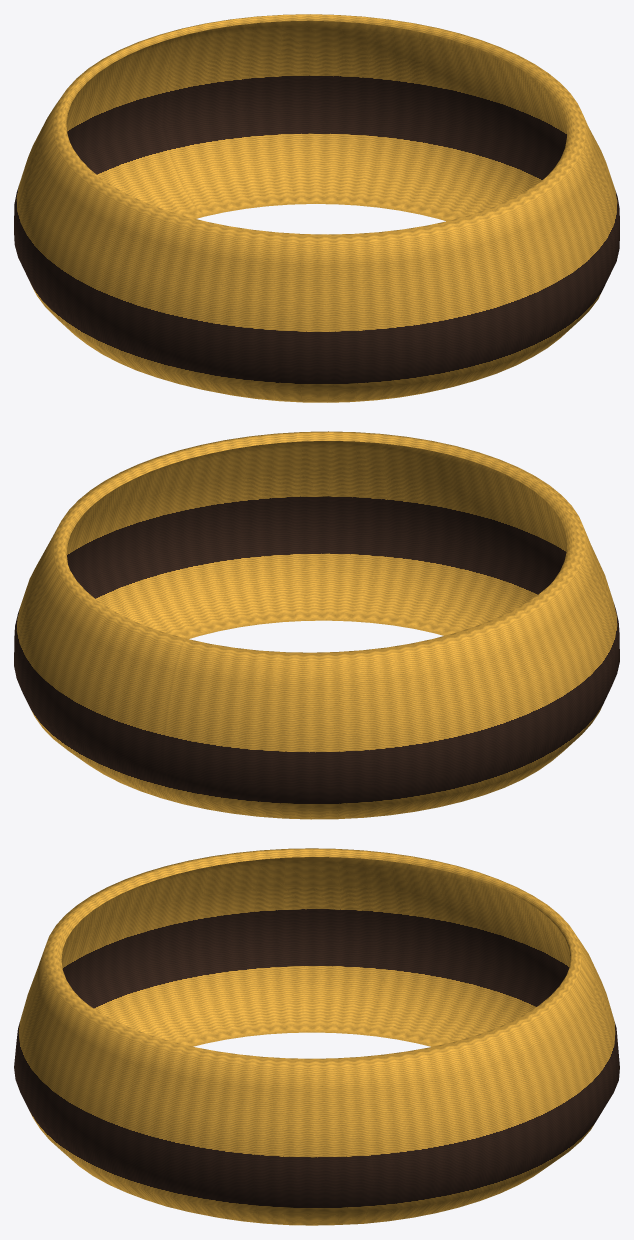
File: abdomen-crouch.fbx
3 renders of one model, top to bottom at view 1: azimuth 30°, elevation 25°; view 2: azimuth 150°, elevation 25°; view 3: azimuth 270°, elevation 25°, orthographic.
Parts seen in each view (by area): view 1: abdomen-crouch; view 2: abdomen-crouch; view 3: abdomen-crouch.
Boxes of the visible parts, left/top/right/bottom form: abdomen-crouch: left=14, top=14, right=619, bottom=402; abdomen-crouch: left=14, top=431, right=619, bottom=819; abdomen-crouch: left=14, top=848, right=619, bottom=1225.
Size of the model in its own units: 70.24 by 22.5 by 71.85.
Materials: 1 (1 with a texture image).
